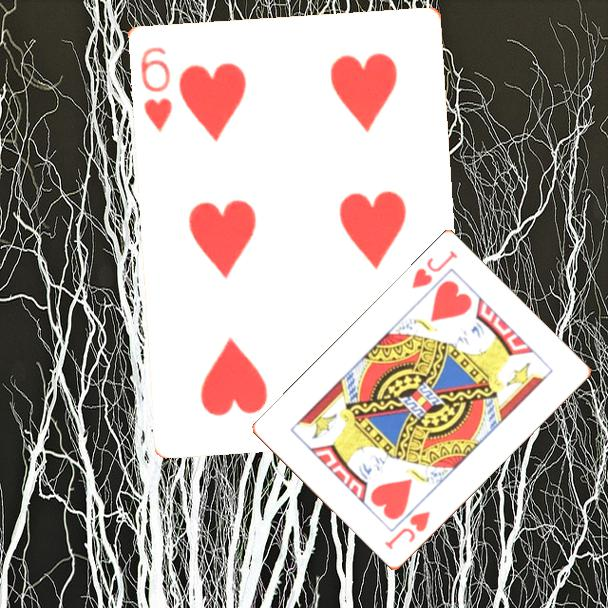h06: (136, 43, 174, 134)
h11: (381, 508, 433, 553), (408, 247, 460, 292)
